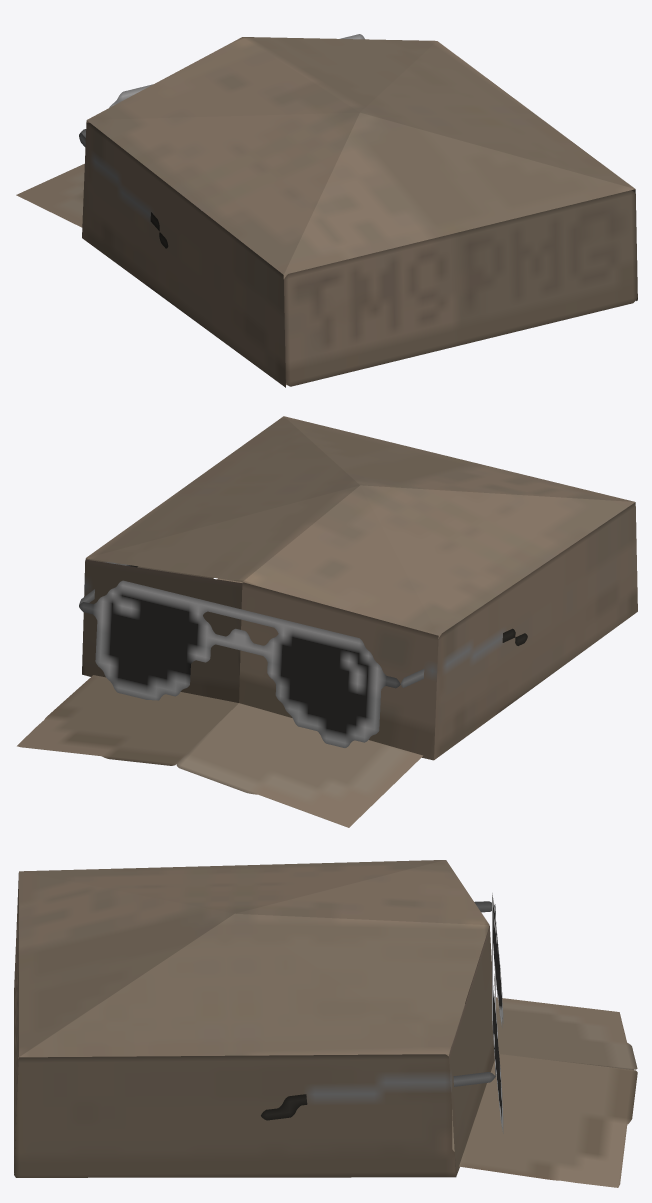
Rendered from tmspmg_h.obj.
3 renders of one model, top to bottom at view 1: azimuth 30°, elevation 25°; view 2: azimuth 150°, elevation 25°; view 3: azimuth 270°, elevation 25°, orthographic. The views are drawn at different scales.
Parts seen in each view (by area): view 1: mesh; view 2: mesh; view 3: mesh.
Part boxes in pixels (<box>): mesh: <box>16,34,637,387</box>; mesh: <box>17,416,637,827</box>; mesh: <box>14,860,637,1187</box>.
Size of the model in its own units: 0.5938 by 0.2721 by 0.8238.
